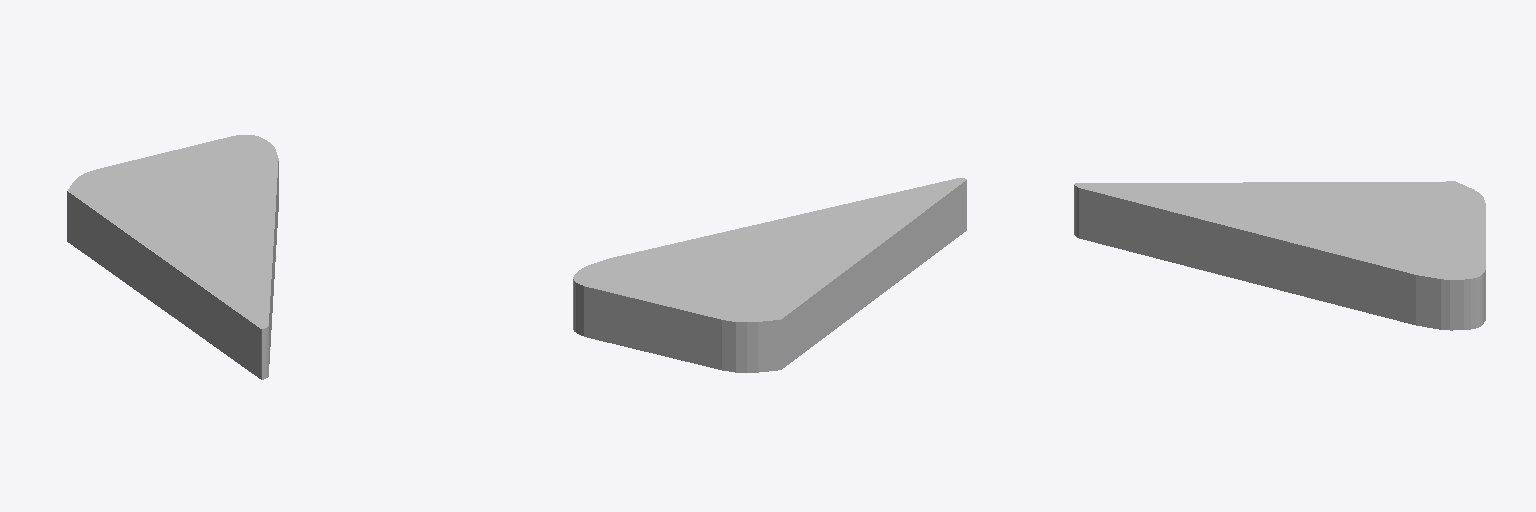
File: obs-dir.obj
The picture shows the model from 3 angles: view 1: azimuth 30°, elevation 25°; view 2: azimuth 150°, elevation 25°; view 3: azimuth 270°, elevation 25°; orthographic projection.
Visible parts, largest first — view 1: obs-dir; view 2: obs-dir; view 3: obs-dir.
Part boxes in pixels (x1,y1,x2,y2): obs-dir: (67, 135, 278, 379); obs-dir: (573, 178, 966, 372); obs-dir: (1074, 181, 1485, 330).
Bounding box in the file's own units: 0.0789 × 0.0189 × 0.1392.